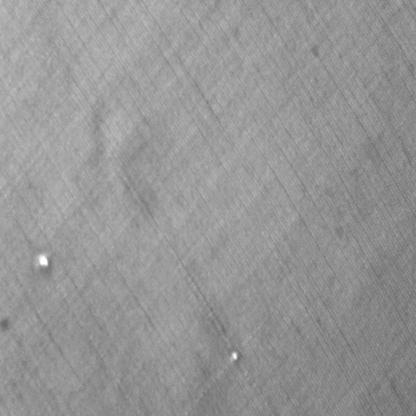hole: (34, 248, 53, 277), (227, 343, 242, 366)
